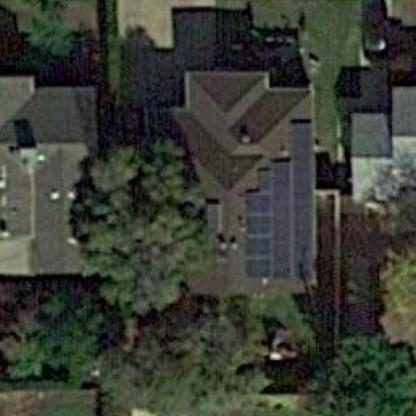solar_panel: (243, 112, 315, 292)
